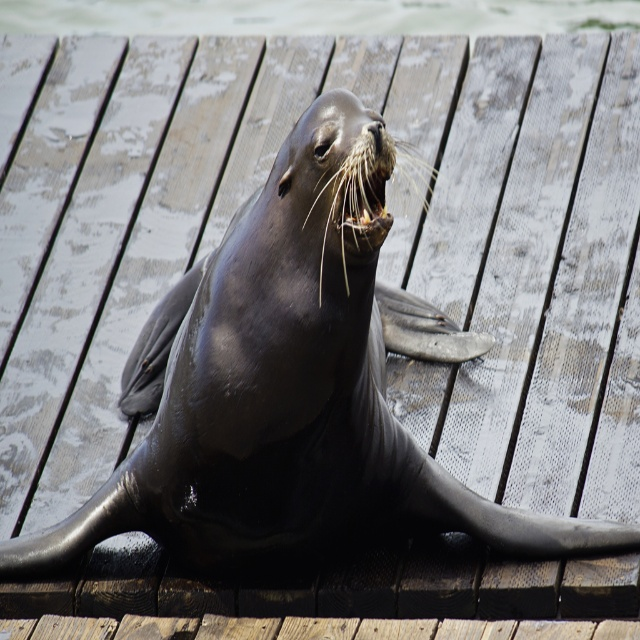Sea lion: (0, 83, 640, 586), (0, 88, 640, 577)
